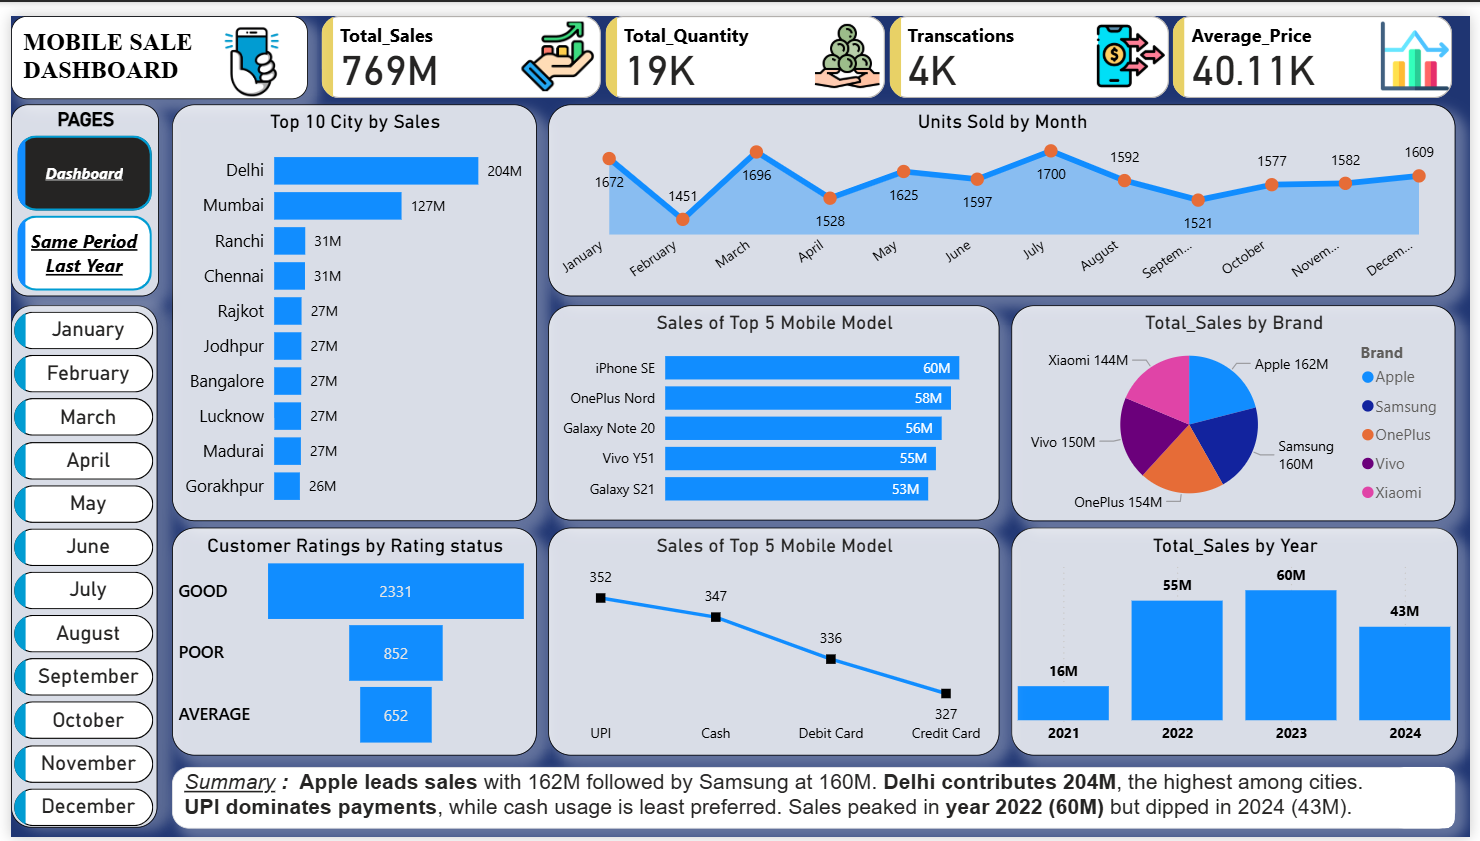

Layout of this report page (visuals, bound fields, positions):
{"tool":"powerbi","page":{"name":"Dashboard","canvas":[1280,720],"ordinal":0},"visuals":[{"type":"advancedSlicerVisual","fields":{"Values":["Custom_Calendar.Date.Variation.Date Hierarchy.Month"]},"box":[0,254.3,128.6,458.6],"z":0},{"type":"cardVisual","fields":{"Data":["Sales_Data.Total_Sales","Sales_Data.Total_Quantity","Sales_Data.Transcations","Sales_Data.Average_Price"]},"box":[272.9,0,994.3,72.9],"z":1000},{"type":"textbox","box":[0,0,260.7,72.9],"z":2000},{"type":"barChart","title":"Top 10 City by Sales","fields":{"Category":["Sales_Data.City"],"Y":["Sales_Data.Total_Sales"]},"box":[141.4,77.1,320,365.7],"z":3000},{"type":"areaChart","title":"Units Sold by Month","fields":{"Category":["Custom_Calendar.Date.Variation.Date Hierarchy.Month"],"Y":["Sales_Data.Total_Quantity"]},"box":[470.9,77.1,796.1,168.2],"z":4000},{"type":"funnel","title":"Customer Ratings by Rating status","fields":{"Y":["CountNonNull(Sales_Data.Customer Ratings)"],"Category":["Sales_Data.Rating status"]},"box":[141.4,448.6,320,200],"z":5000},{"type":"barChart","title":"Sales of Top 5 Mobile Model","fields":{"Y":["Sales_Data.Total_Sales"],"Category":["Sales_Data.Mobile Model"]},"box":[471.4,254.3,395.7,188.6],"z":6000},{"type":"columnChart","fields":{"Category":["Custom_Calendar.Date.Variation.Date Hierarchy.Year"],"Y":["Sales_Data.Total_Sales"]},"box":[877.1,448.6,391.4,200],"z":7000},{"type":"pieChart","fields":{"Category":["Sales_Data.Brand"],"Y":["Sales_Data.Total_Sales"]},"box":[877.4,253.7,389.6,189.2],"z":8000},{"type":"pageNavigator","title":"PAGES","box":[0,77.1,130,168.6],"z":9000},{"type":"image","box":[162.6,4.2,98.1,72.9],"z":10000},{"type":"textbox","box":[141.4,659,1125.7,54.3],"z":11000},{"type":"shape","box":[1212.9,658.6,54.3,54.3],"z":12000},{"type":"lineChart","title":"Sales of Top 5 Mobile Model","fields":{"Category":["Sales_Data.Payment Method"],"Y":["Sales_Data.Transcations"]},"box":[471.4,448.6,395.7,200],"z":13000}]}

Visuals, with their boxes in screenshot pixels (x1, y1, x2, y2), scaled from the page's 1280x720 canvas onto the 1480x841 screenshot:
advancedSlicerVisual - Custom_Calendar.Date.Variation.Date Hierarchy.Month: detection(0, 297, 149, 833)
cardVisual - Sales_Data.Total_Sales x Sales_Data.Total_Quantity: detection(316, 0, 1465, 85)
textbox: detection(0, 0, 301, 85)
"Top 10 City by Sales" barChart: detection(163, 90, 533, 517)
"Units Sold by Month" areaChart: detection(544, 90, 1465, 287)
"Customer Ratings by Rating status" funnel: detection(163, 524, 533, 758)
"Sales of Top 5 Mobile Model" barChart: detection(545, 297, 1003, 517)
columnChart - Custom_Calendar.Date.Variation.Date Hierarchy.Year x Sales_Data.Total_Sales: detection(1014, 524, 1467, 758)
pieChart - Sales_Data.Brand x Sales_Data.Total_Sales: detection(1014, 296, 1465, 517)
"PAGES" pageNavigator: detection(0, 90, 150, 287)
image: detection(188, 5, 301, 90)
textbox: detection(163, 770, 1465, 833)
shape: detection(1402, 769, 1465, 833)
"Sales of Top 5 Mobile Model" lineChart: detection(545, 524, 1003, 758)
